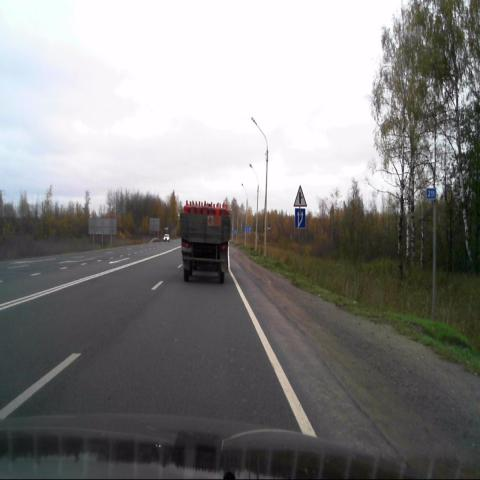2_3_2: (293, 185, 307, 207)
5_15_3: (295, 208, 305, 228)
